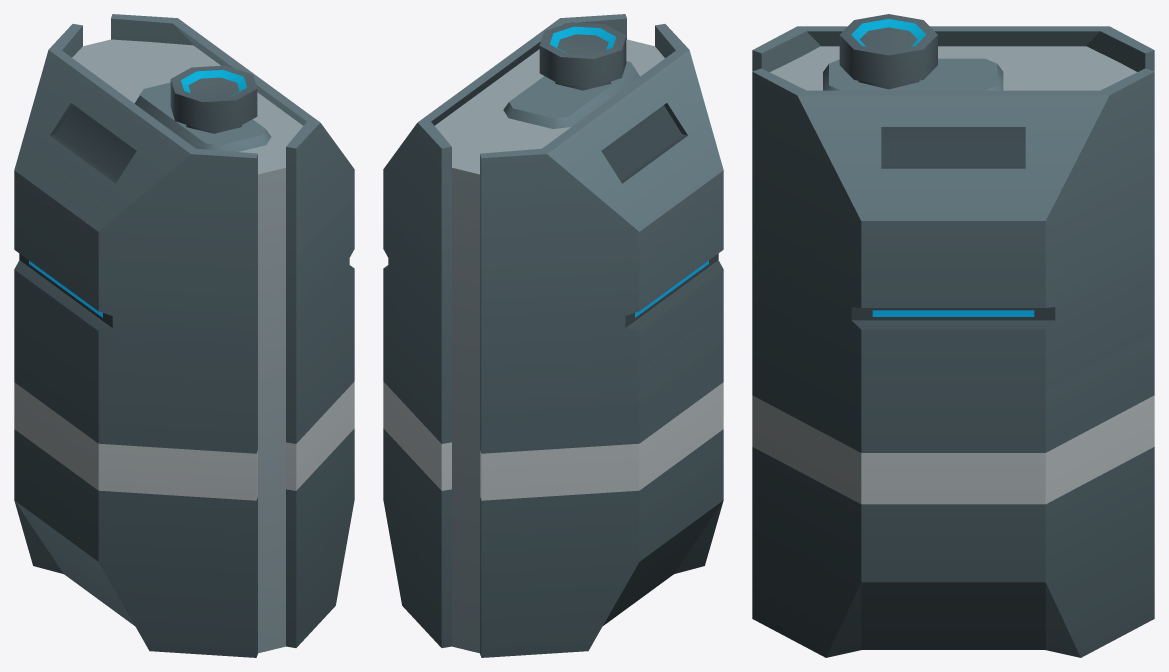
File: Gas_can_003.glb
3 views of the same model, side by side, from view 1: azimuth 30°, elevation 25°; view 2: azimuth 150°, elevation 25°; view 3: azimuth 270°, elevation 25° (orthographic). The views are drawn at different scales.
Visible parts, largest first — view 1: Gas_can_003; view 2: Gas_can_003; view 3: Gas_can_003.
Boxes of the visible parts, x1,y1,x2,y2 form: Gas_can_003: (14,14,354,657); Gas_can_003: (383,14,723,657); Gas_can_003: (752,14,1154,657).
Bounding box in the file's own units: 0.3219 × 0.6286 × 0.4.
2 materials, 2 textured.
